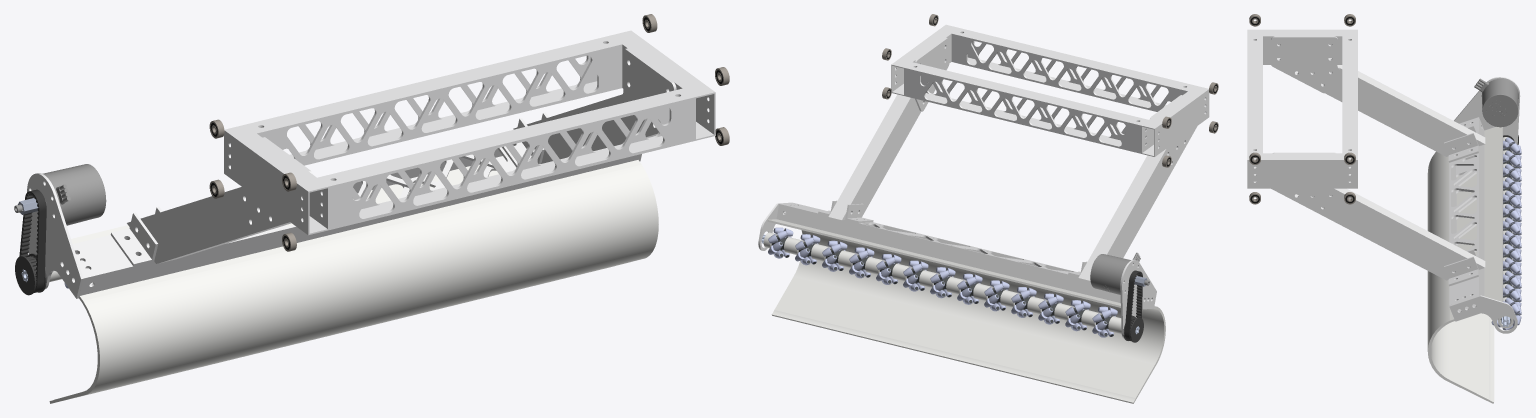
The picture shows the model from 3 angles, left to right: view 1: azimuth 30°, elevation 25°; view 2: azimuth 150°, elevation 25°; view 3: azimuth 270°, elevation 25°; orthographic projection. The views are drawn at different scales.
Parts seen in each view (by area): view 1: coral scoop v14:1, Top/Bottom Lightened v2:2, Top/Bottom Lightened v2:1, Coral Intake backing v15:1, Side Tubes v11:1, Support Bar v15:1, Intake outer brace Motor v7:1, Side Tubes v11:2, NEO v1:1, Suport bar Gusset v3:2, Support Bar v15:2, Intake Belt v1:1 (+2 smaller); view 2: coral scoop v14:1, Top/Bottom Lightened v2:1, Top/Bottom Lightened v2:2, Coral Intake backing v15:1, Support Bar v15:1, Support Bar v15:2, Side Tubes v11:1, Side Tubes v11:2, NEO v1:1, Intake outer brace Motor v7:1, Suport bar Gusset v3:2, Intake Belt v1:1 (+13 smaller); view 3: coral scoop v14:1, Support Bar v15:2, Support Bar v15:1, Coral Intake backing v15:1, Side Tubes v11:2, Suport bar Gusset v3:1, Top/Bottom Lightened v2:1, Top/Bottom Lightened v2:2, NEO v1:1, Side Tubes v11:1, Intake outer brace v13:1, Intake outer brace Motor v7:1 (+3 smaller).
Part boxes in pixels (<box>): coral scoop v14:1: <box>49,160,658,403</box>; Top/Bottom Lightened v2:2: <box>317,88,694,229</box>; Top/Bottom Lightened v2:1: <box>245,35,622,165</box>; Coral Intake backing v15:1: <box>72,144,639,295</box>; Side Tubes v11:1: <box>224,124,328,235</box>; Support Bar v15:1: <box>127,187,290,263</box>; Intake outer brace Motor v7:1: <box>27,173,83,298</box>; Side Tubes v11:2: <box>610,30,715,140</box>; NEO v1:1: <box>14,164,106,225</box>; Suport bar Gusset v3:2: <box>621,48,676,137</box>; Support Bar v15:2: <box>513,94,656,163</box>; Intake Belt v1:1: <box>19,189,46,292</box>; coral scoop v14:1: <box>767,219,1165,403</box>; Top/Bottom Lightened v2:1: <box>904,62,1148,153</box>; Top/Bottom Lightened v2:2: <box>951,28,1195,111</box>; Coral Intake backing v15:1: <box>776,203,1120,302</box>; Support Bar v15:1: <box>1078,126,1197,280</box>; Support Bar v15:2: <box>828,94,921,220</box>; Side Tubes v11:1: <box>1141,85,1209,156</box>; Side Tubes v11:2: <box>891,24,958,95</box>; NEO v1:1: <box>1090,252,1149,294</box>; Intake outer brace Motor v7:1: <box>1120,259,1156,338</box>; Suport bar Gusset v3:2: <box>915,37,949,111</box>; Intake Belt v1:1: <box>1124,270,1142,341</box>; coral scoop v14:1: <box>1427,126,1502,403</box>; Support Bar v15:2: <box>1271,188,1485,280</box>; Support Bar v15:1: <box>1295,65,1485,156</box>; Coral Intake backing v15:1: <box>1449,117,1484,311</box>; Side Tubes v11:2: <box>1247,153,1357,188</box>; Suport bar Gusset v3:1: <box>1271,36,1339,93</box>; Top/Bottom Lightened v2:1: <box>1342,36,1357,175</box>; Top/Bottom Lightened v2:2: <box>1247,36,1262,175</box>; NEO v1:1: <box>1474,78,1518,127</box>; Side Tubes v11:1: <box>1247,29,1357,64</box>; Intake outer brace v13:1: <box>1449,295,1517,333</box>; Intake outer brace Motor v7:1: <box>1454,77,1520,144</box>.
Bounding box in the file's own units: 0.7197 × 0.4054 × 0.4408.
